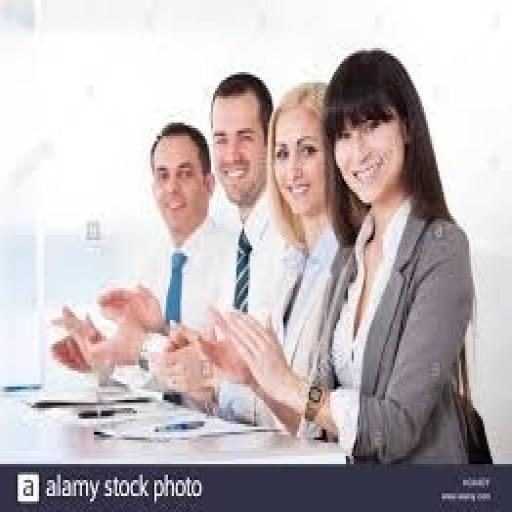clapping: (18, 49, 446, 492)
